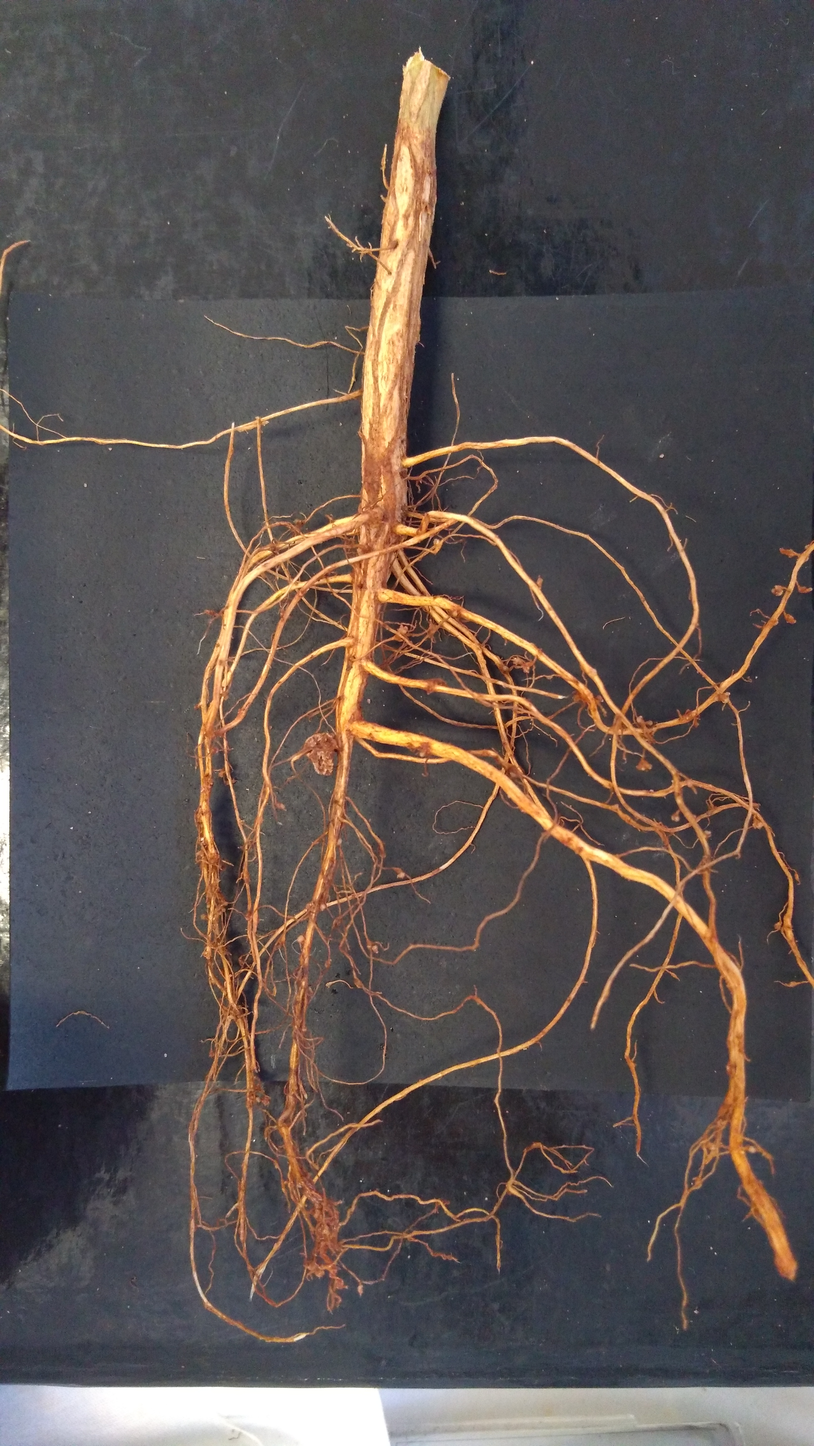nodule: (303, 731, 336, 776), (303, 1260, 325, 1278), (315, 1221, 332, 1239), (394, 624, 409, 642), (424, 677, 447, 687), (311, 1207, 325, 1222), (635, 761, 653, 772), (718, 690, 731, 704), (228, 1009, 240, 1021), (207, 852, 219, 863), (752, 819, 764, 830), (195, 850, 205, 863), (217, 943, 227, 956), (205, 728, 216, 739), (449, 608, 459, 619), (292, 518, 305, 526), (746, 1144, 757, 1153), (203, 608, 215, 616), (296, 935, 306, 944), (595, 693, 605, 702), (429, 623, 438, 633), (512, 657, 522, 666), (262, 1096, 270, 1107), (706, 1142, 717, 1150), (305, 901, 314, 910), (703, 829, 712, 838), (371, 944, 379, 954), (670, 814, 680, 822), (501, 665, 511, 673), (318, 902, 326, 911), (774, 921, 782, 930), (536, 578, 543, 588), (275, 802, 285, 809), (523, 662, 529, 673), (635, 714, 643, 722), (418, 751, 427, 758), (335, 837, 342, 846), (203, 950, 210, 959), (396, 872, 405, 879), (244, 912, 251, 921), (200, 912, 207, 920), (283, 1087, 290, 1095), (433, 538, 440, 545), (207, 778, 214, 785), (209, 1050, 215, 1058), (255, 1096, 261, 1103), (238, 958, 244, 965), (222, 900, 228, 906), (280, 608, 284, 617), (223, 694, 228, 701), (218, 770, 223, 777), (646, 720, 653, 725), (218, 910, 223, 916), (221, 907, 226, 912), (366, 945, 371, 950), (283, 1180, 288, 1185), (229, 974, 232, 977)
